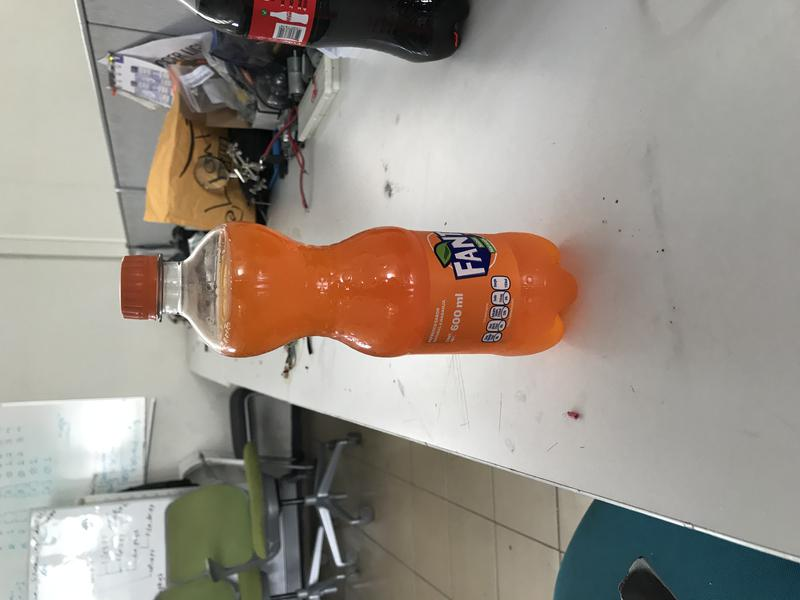fanta: (120, 221, 578, 359)
